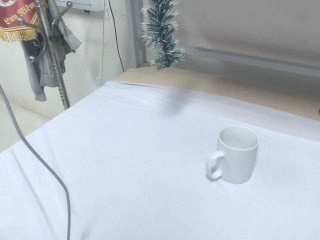cup: (205, 125, 260, 185)
